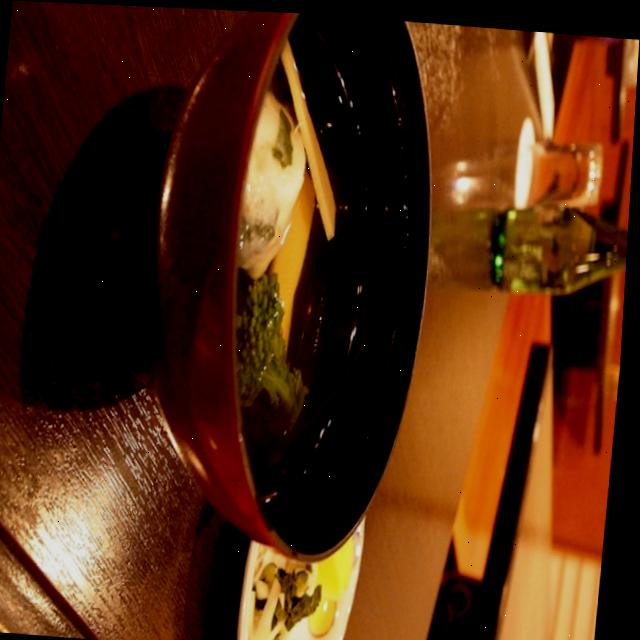汤锅炖物: (100, 5, 475, 577)
